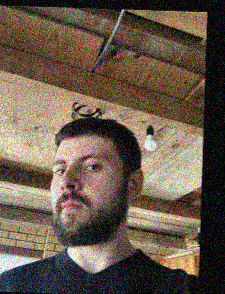without_mask: (49, 150, 117, 246)
